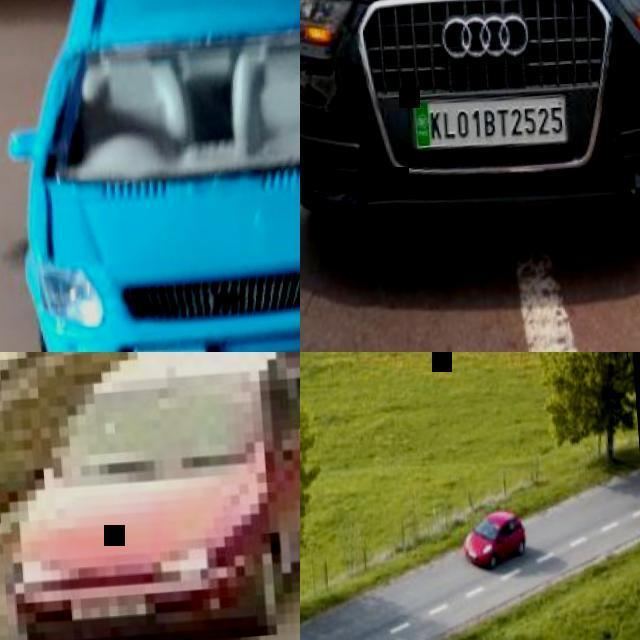car: (295, 0, 639, 288)
